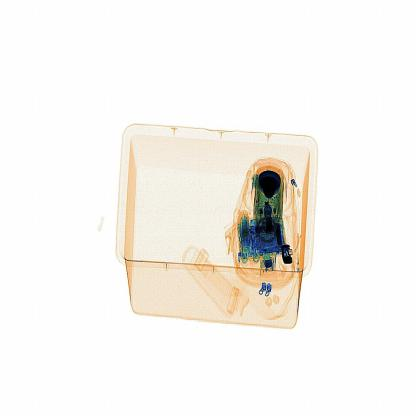pliers: (276, 239, 297, 269)
